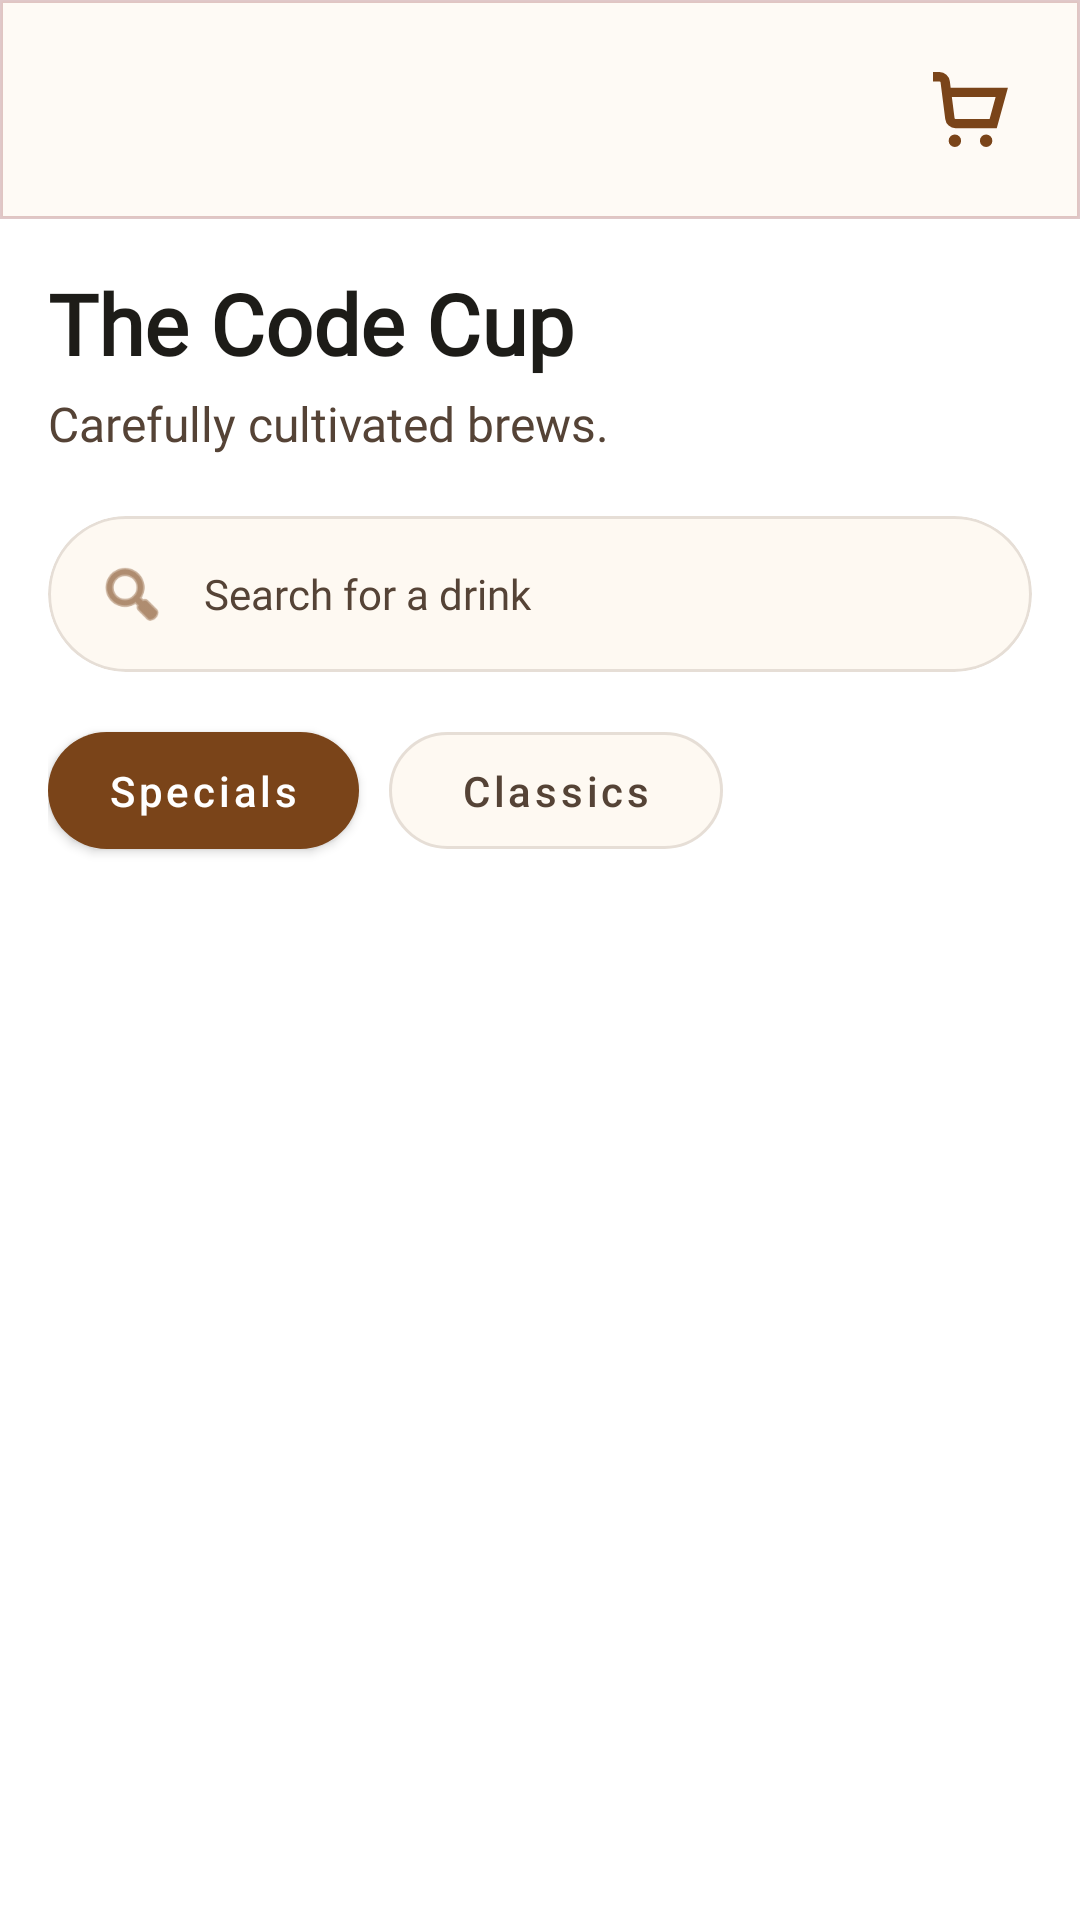

Icon bounding boxes for this 1080px×1920px phone screenshot, format box(x1, y1, x2, y2):
cart: box(933, 72, 1008, 147)
